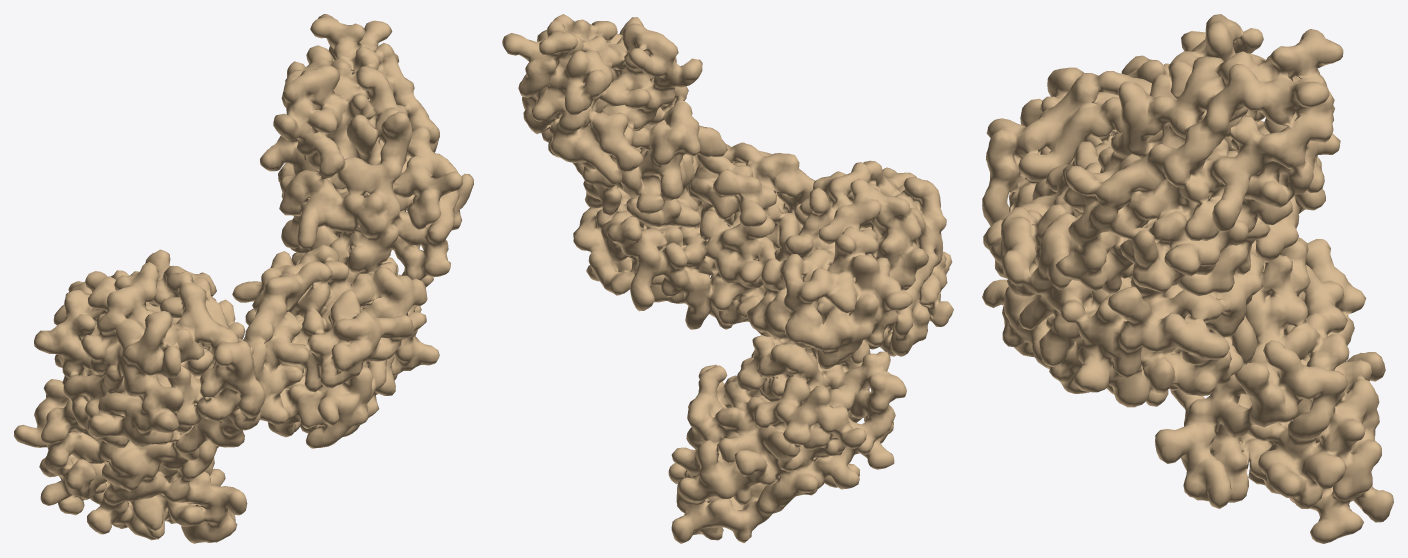
Rendered from 1mel.glb.
The picture shows the model from 3 angles, left to right: view 1: azimuth 30°, elevation 25°; view 2: azimuth 150°, elevation 25°; view 3: azimuth 270°, elevation 25°; orthographic projection. The views are drawn at different scales.
Visible parts, largest first — view 1: 1MEL.pdb_B Gaussian surface, 1MEL.pdb_L Gaussian surface, 1MEL.pdb_M Gaussian surface, 1MEL.pdb_A Gaussian surface; view 2: 1MEL.pdb_A Gaussian surface, 1MEL.pdb_B Gaussian surface, 1MEL.pdb_L Gaussian surface, 1MEL.pdb_M Gaussian surface; view 3: 1MEL.pdb_B Gaussian surface, 1MEL.pdb_A Gaussian surface, 1MEL.pdb_M Gaussian surface, 1MEL.pdb_L Gaussian surface.
Part boxes in pixels (x1,y1,x2,y2): 1MEL.pdb_B Gaussian surface: (260,14,473,283); 1MEL.pdb_L Gaussian surface: (34,249,265,454); 1MEL.pdb_M Gaussian surface: (232,244,439,448); 1MEL.pdb_A Gaussian surface: (14,379,247,543); 1MEL.pdb_A Gaussian surface: (668,330,906,543); 1MEL.pdb_B Gaussian surface: (502,14,727,227); 1MEL.pdb_L Gaussian surface: (747,160,953,369); 1MEL.pdb_M Gaussian surface: (573,142,815,329); 1MEL.pdb_B Gaussian surface: (1055,14,1343,296); 1MEL.pdb_A Gaussian surface: (1155,237,1393,543); 1MEL.pdb_M Gaussian surface: (982,141,1263,407); 1MEL.pdb_L Gaussian surface: (982,55,1325,261).
Size of the model in its own units: 77.66 by 87.83 by 55.46.
